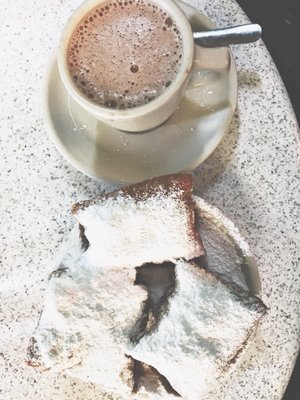pizza: (56, 0, 196, 133)
